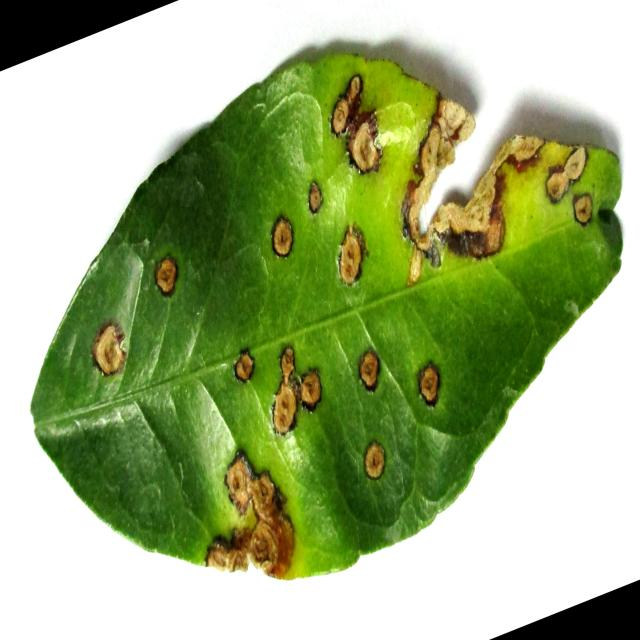antracnose: (31, 55, 623, 579), (406, 100, 545, 257), (206, 451, 294, 578), (332, 75, 382, 173), (272, 347, 321, 435), (93, 324, 125, 375), (340, 225, 361, 285), (418, 362, 440, 406), (155, 255, 177, 296), (359, 349, 380, 391), (272, 219, 292, 256), (365, 442, 385, 479), (547, 170, 569, 203), (564, 148, 586, 180), (234, 349, 254, 383), (574, 193, 592, 225), (308, 182, 322, 214)
